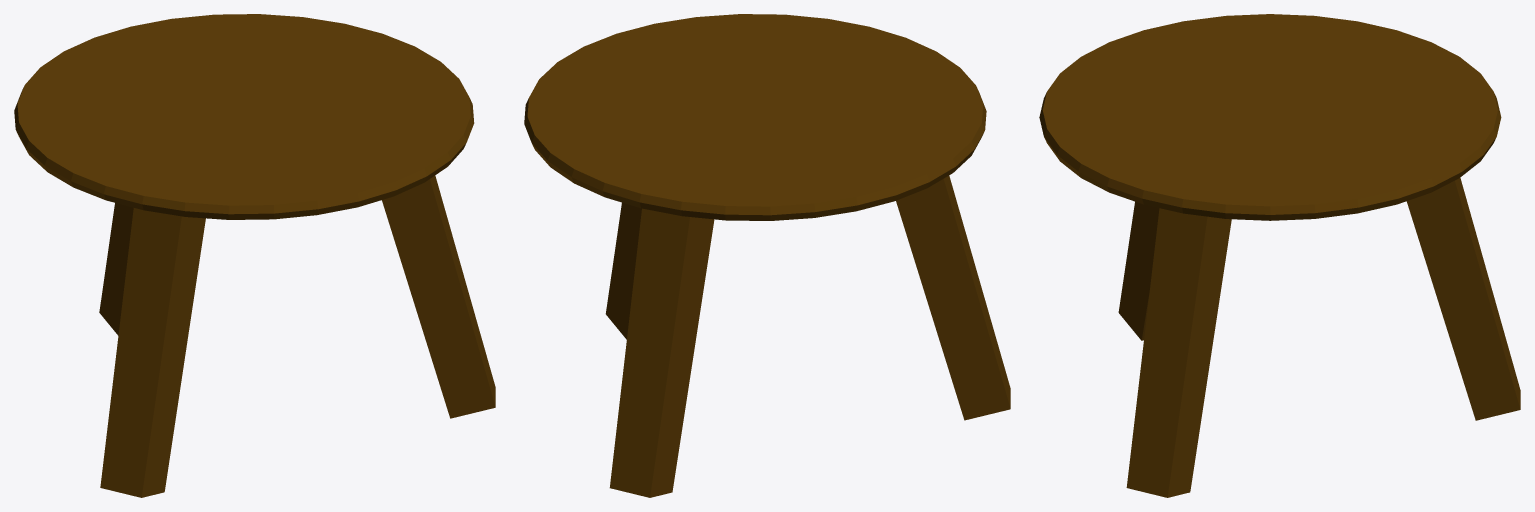
File: BarStool.fbx
3 renders of one model, left to right at view 1: azimuth 30°, elevation 25°; view 2: azimuth 150°, elevation 25°; view 3: azimuth 270°, elevation 25°, orthographic.
Visible parts, largest first — view 1: Circle, Cube.001, Cube.002, Cube; view 2: Circle, Cube, Cube.001, Cube.002; view 3: Circle, Cube.002, Cube, Cube.001.
Boxes of the visible parts, x1,y1,x2,y2 form: Circle: [14, 14, 474, 219]; Cube.001: [100, 208, 205, 497]; Cube.002: [382, 175, 495, 418]; Cube: [99, 203, 133, 335]; Circle: [524, 14, 986, 220]; Cube: [609, 208, 714, 497]; Cube.001: [896, 175, 1010, 420]; Cube.002: [605, 202, 641, 339]; Circle: [1039, 14, 1501, 220]; Cube.002: [1126, 208, 1231, 497]; Cube: [1406, 178, 1520, 420]; Cube.001: [1118, 201, 1159, 340].
Bounding box in the file's own units: 203 × 146 × 211.
